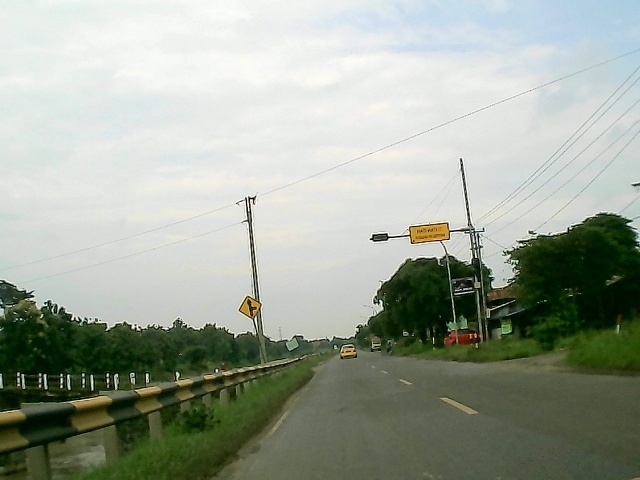Simpang kanan dengan prioritas: (237, 294, 263, 321)
